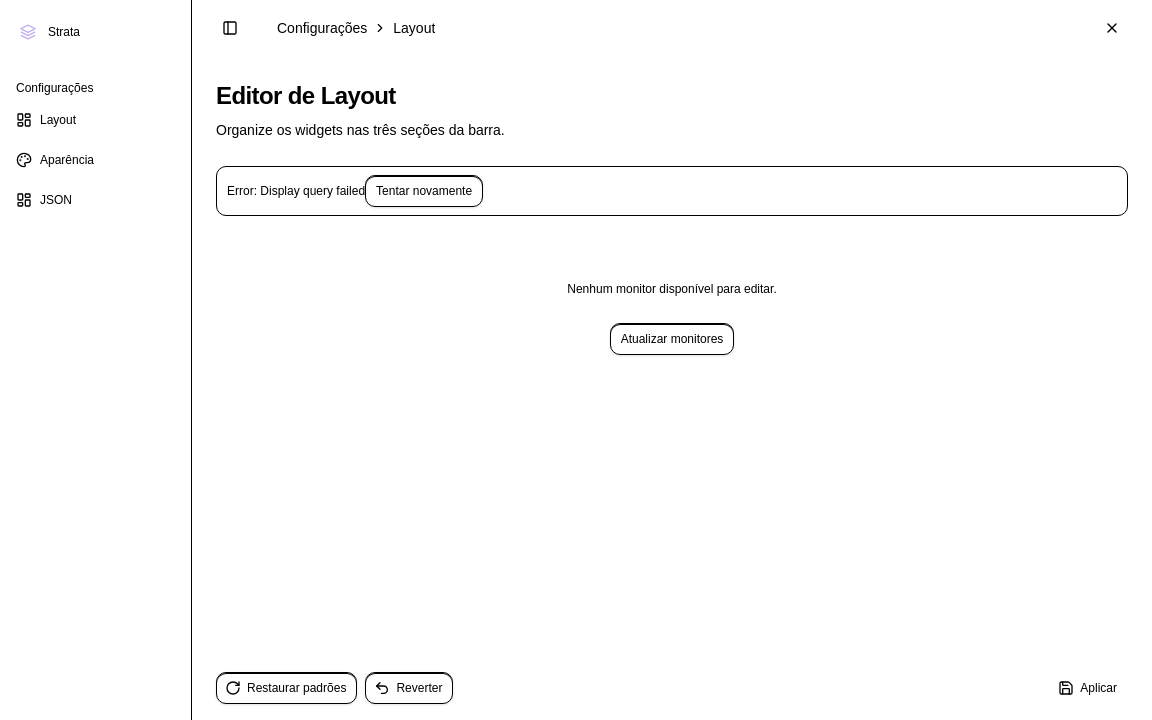
Scenario: retries failed native monitor discovery without substituting demo monitors
The width and height of the screenshot is (1152, 720).
Expected: the button "Aplicar" is enabled, x1=1049 y1=672 x2=1128 y2=704
Expected: the message shows "Display query failed", x1=227 y1=184 x2=365 y2=198
Click the button "Tentar novamente": coordinates (424, 191) x1=365 y1=175 x2=483 y2=207
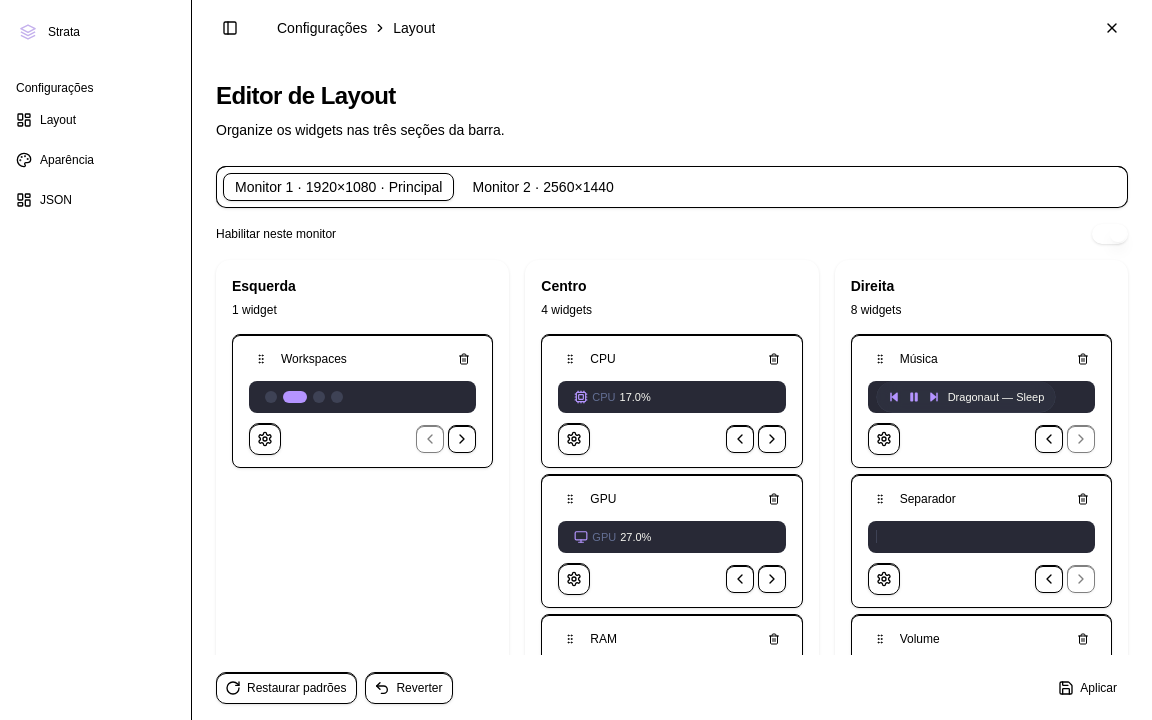
Result: the tab "Monitor 2 · 2560×1440" is shown at x1=460 y1=172 x2=627 y2=202
